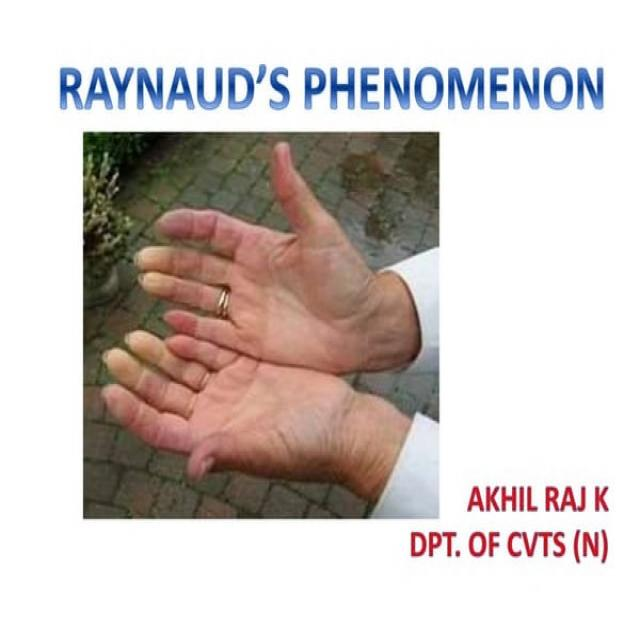raynauds: (103, 313, 172, 397), (130, 246, 169, 299)
